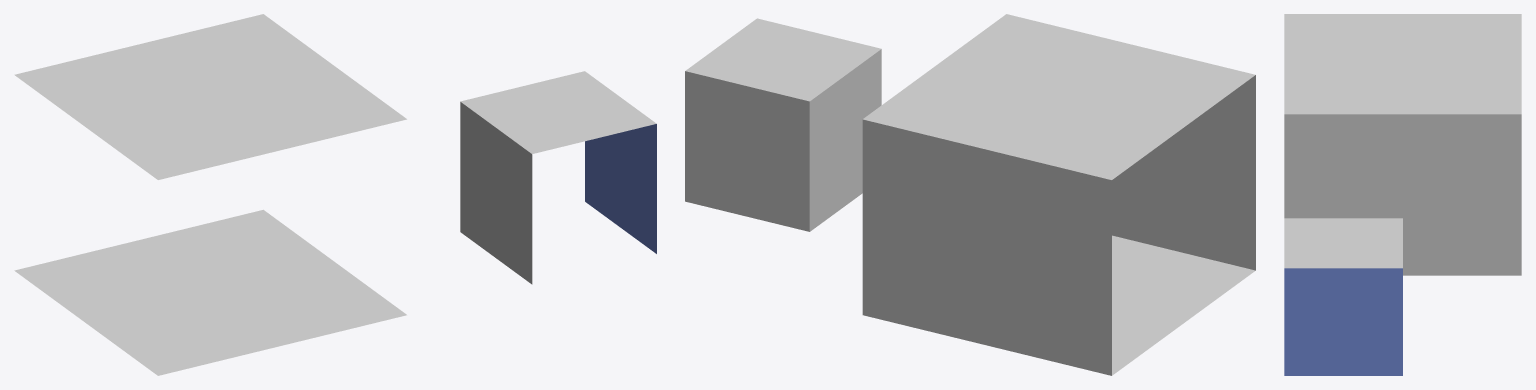
File: meshed.glb
3 views of the same model, side by side, from view 1: azimuth 30°, elevation 25°; view 2: azimuth 150°, elevation 25°; view 3: azimuth 270°, elevation 25° (orthographic). The views are drawn at different scales.
Visible parts, largest first — view 1: meshed, 网格盒; view 2: meshed, 网格盒; view 3: meshed, 网格盒.
Boxes of the visible parts, bbox=[...] form: meshed: bbox=[14, 14, 406, 375]; 网格盒: bbox=[460, 71, 656, 284]; meshed: bbox=[862, 14, 1255, 375]; 网格盒: bbox=[685, 18, 881, 231]; meshed: bbox=[1284, 14, 1521, 275]; 网格盒: bbox=[1284, 218, 1402, 375].
Size of the model in its own units: 4 by 1.5 by 2.
